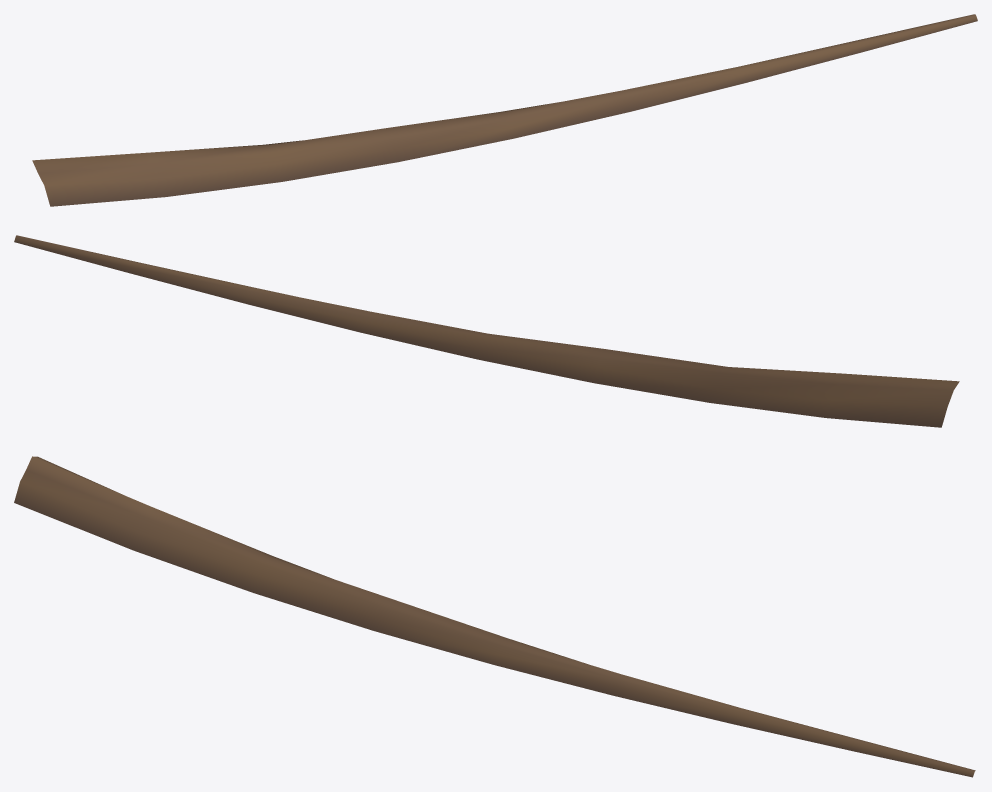
File: glow.root-v2.glb
The picture shows the model from 3 angles, top to bottom: view 1: azimuth 30°, elevation 25°; view 2: azimuth 150°, elevation 25°; view 3: azimuth 330°, elevation 25°; orthographic projection.
Visible parts, largest first — view 1: glow.root; view 2: glow.root; view 3: glow.root.
Part boxes in pixels (x1,y1,x2,y2): glow.root: [32, 14, 977, 206]; glow.root: [14, 235, 959, 427]; glow.root: [14, 456, 975, 777].
Bounding box in the file's own units: 3.6 × 0.33 × 0.24.
